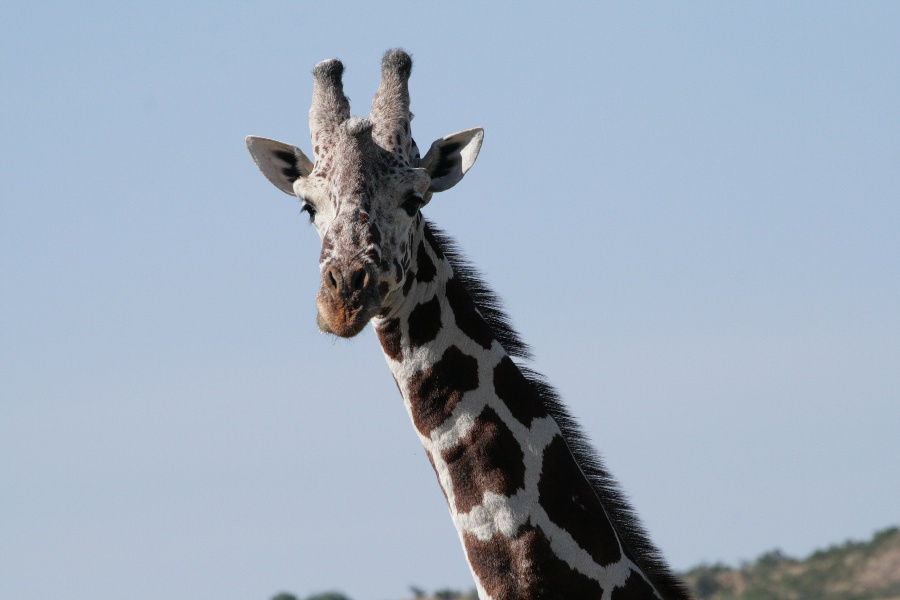giraffe: (221, 39, 701, 589)
